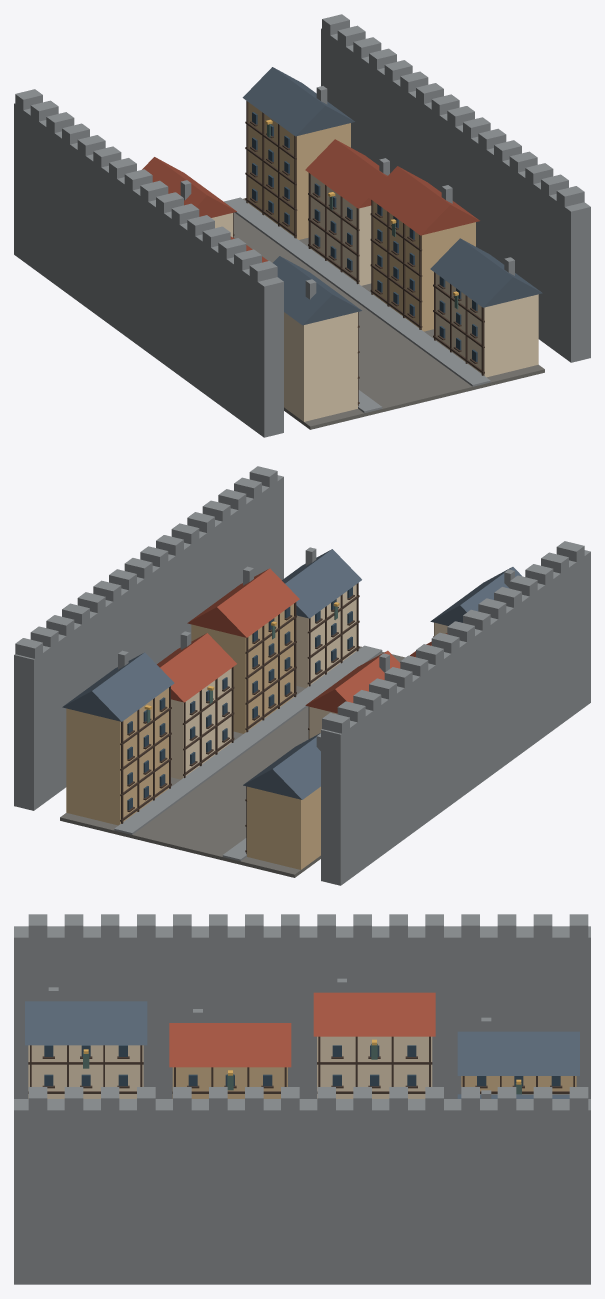
Rendered from Trost_Street.glb.
3 renders of one model, top to bottom at view 1: azimuth 30°, elevation 25°; view 2: azimuth 150°, elevation 25°; view 3: azimuth 270°, elevation 25°, orthographic. The views are drawn at different scales.
Visible parts, largest first — view 1: stone, chalk, plaster, slate, road, roof, timber, glass; view 2: stone, plaster, slate, road, roof, timber, chalk, glass; view 3: stone, slate, roof, chalk, plaster, timber, glass.
Part boxes in pixels (x1,y1,x2,y2): stone: (14, 14, 590, 437); chalk: (211, 174, 538, 421); plaster: (248, 102, 475, 331); slate: (242, 67, 542, 325); road: (233, 198, 544, 429); roof: (142, 139, 479, 262); timber: (233, 101, 484, 406); glass: (252, 112, 477, 361); stone: (14, 466, 590, 885); plaster: (66, 604, 320, 869); slate: (62, 549, 521, 799); road: (60, 646, 405, 877); roof: (157, 568, 447, 713); timber: (120, 583, 434, 854); chalk: (171, 584, 447, 779); glass: (127, 587, 352, 809); stone: (14, 914, 590, 1284); slate: (25, 1001, 579, 1098); roof: (169, 992, 435, 1067); chalk: (28, 1036, 432, 1098); plaster: (172, 1067, 576, 1098); timber: (28, 1036, 574, 1093); glass: (44, 1045, 560, 1086).
Bounding box in the file's own units: 36.2 × 17.46 × 48.
